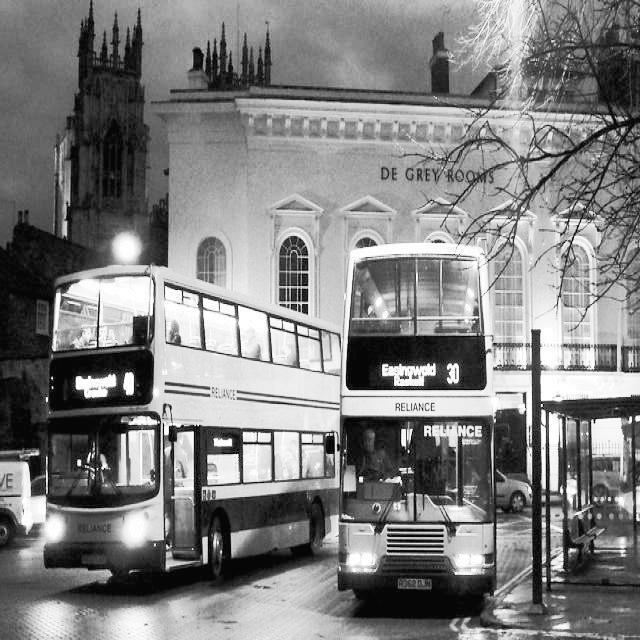Bus: (37, 214, 349, 617), (340, 213, 501, 607)
Car: (493, 452, 539, 518)
